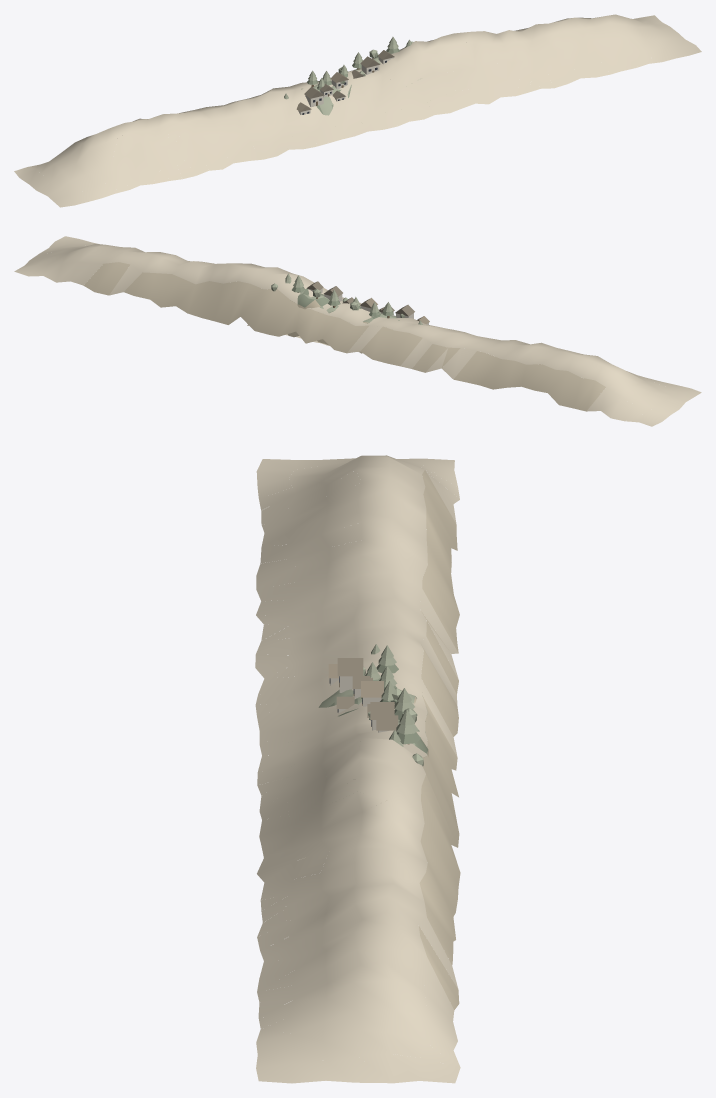
File: terrain.glb
The picture shows the model from 3 angles, top to bottom: view 1: azimuth 30°, elevation 25°; view 2: azimuth 150°, elevation 25°; view 3: azimuth 270°, elevation 25°; orthographic projection. The views are drawn at different scales.
Parts seen in each view (by area): view 1: FarRidge, TownHouses; view 2: FarRidge, TownHouses, TownGround; view 3: FarRidge, TownHouses.
Part boxes in pixels (<box>): FarRidge: <box>14,14,701,207</box>; TownHouses: <box>284,37,413,114</box>; FarRidge: <box>14,236,701,426</box>; TownHouses: <box>271,273,429,324</box>; TownGround: <box>247,288,399,353</box>; FarRidge: <box>255,455,460,1083</box>; TownHouses: <box>328,644,423,766</box>.
Size of the model in its own units: 121 by 9.79 by 16.74.
